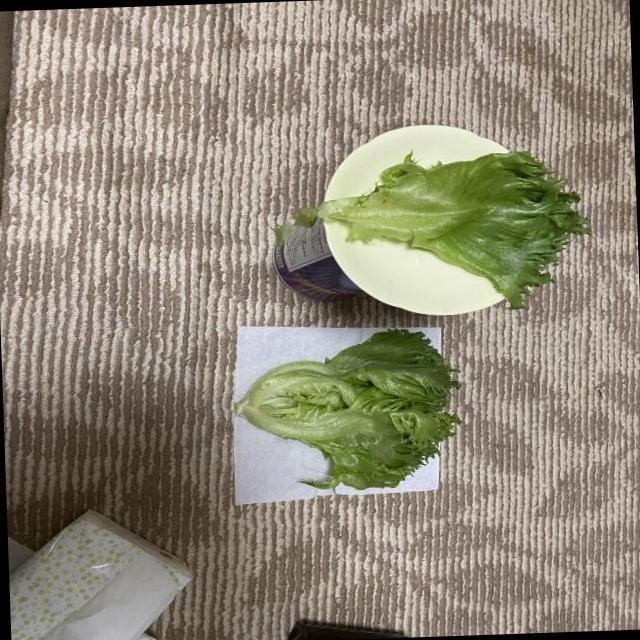Lettuce-Ready-to-Harvest: (235, 329, 459, 489)
